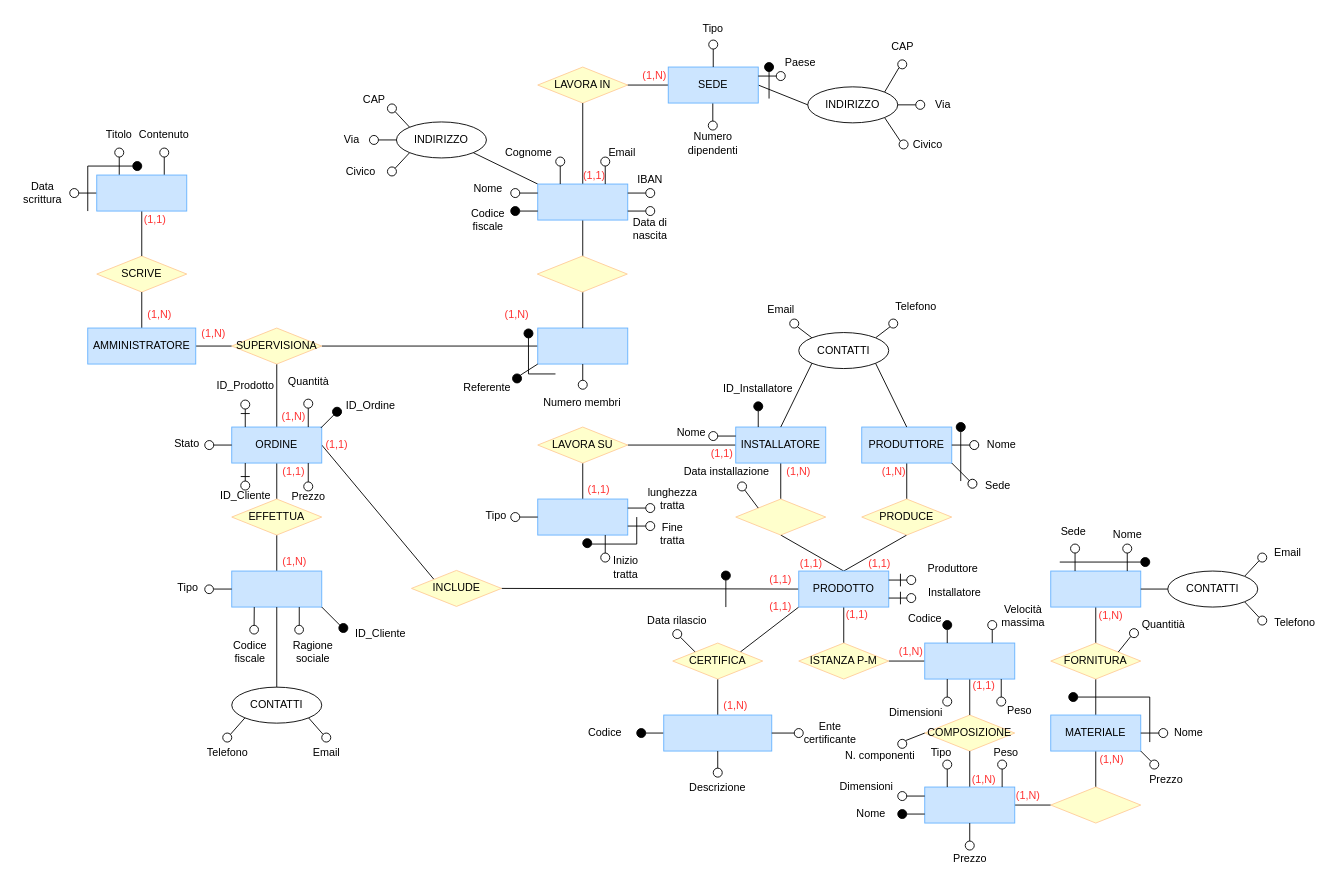
Some shapes in this 1341 by 887 pixel diagram are drawn without their labels. The box of each missing label's shape, as (x1, y1, x2, y2) in pixels:
CERTIFICATO: (663, 714, 772, 751)
CLIENTE: (231, 570, 322, 607)
COMPONENTE: (924, 786, 1015, 823)
DIPENDENTE: (537, 183, 628, 220)
FORNITORE: (1050, 570, 1141, 607)
INSTALLA: (735, 498, 826, 535)
MODELLO: (924, 642, 1015, 679)
PARTECIPAZIONE: (536, 255, 627, 292)
REPORT: (96, 174, 187, 211)
STRUTTURAZIONE: (1050, 786, 1141, 823)
TEAM: (537, 327, 628, 364)
TRATTA: (537, 498, 628, 535)
